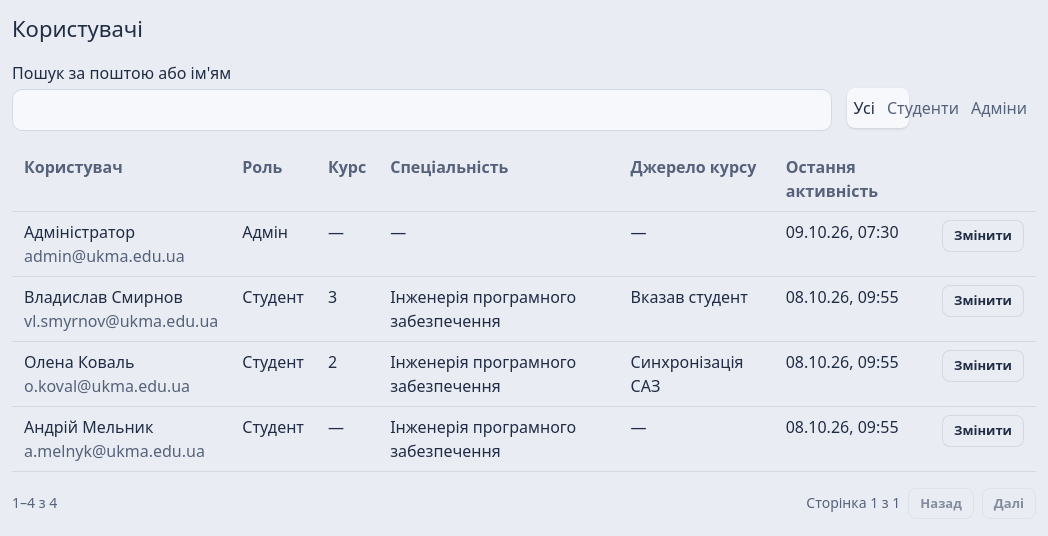
Test: UsersPage › мок шукає без урахування регістру за поштою та ім'ям
Check: the text "Владислав Смирнов" is shown, box [24,286,183,308]
Type "O.KOVAL" into the field labelled "Пошук за поштою або ім'ям". click: {"x": 422, "y": 110}
box: [12,89,832,131]
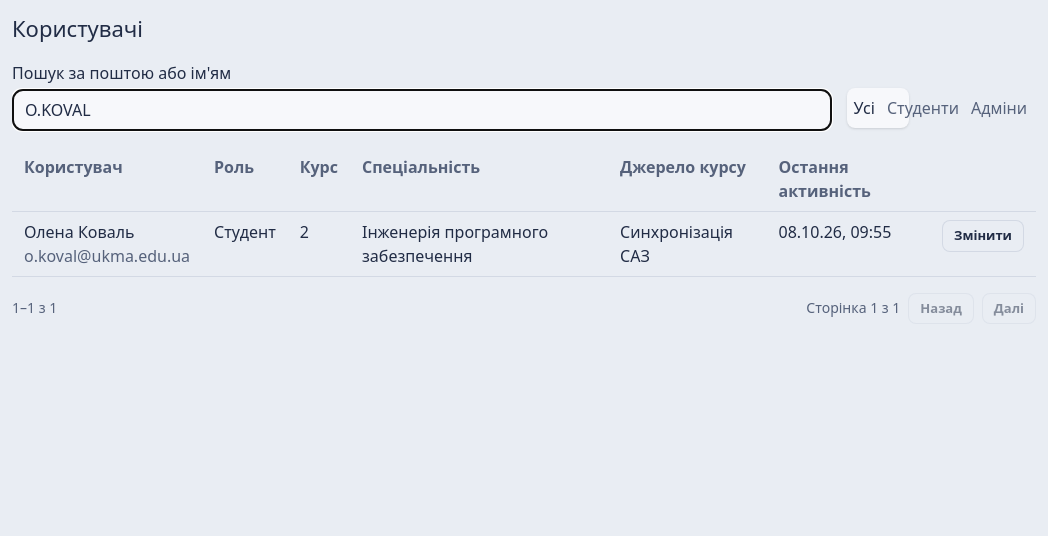
Check: the text "Олена Коваль" is shown, box [24,221,134,243]
Check: the text "Владислав Смирнов" is gone
